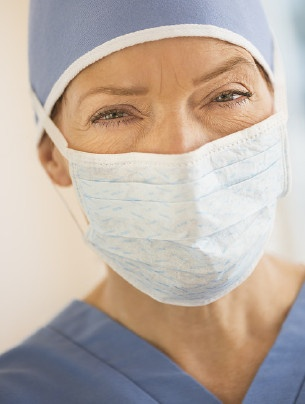Mask: (37, 53, 292, 308)
